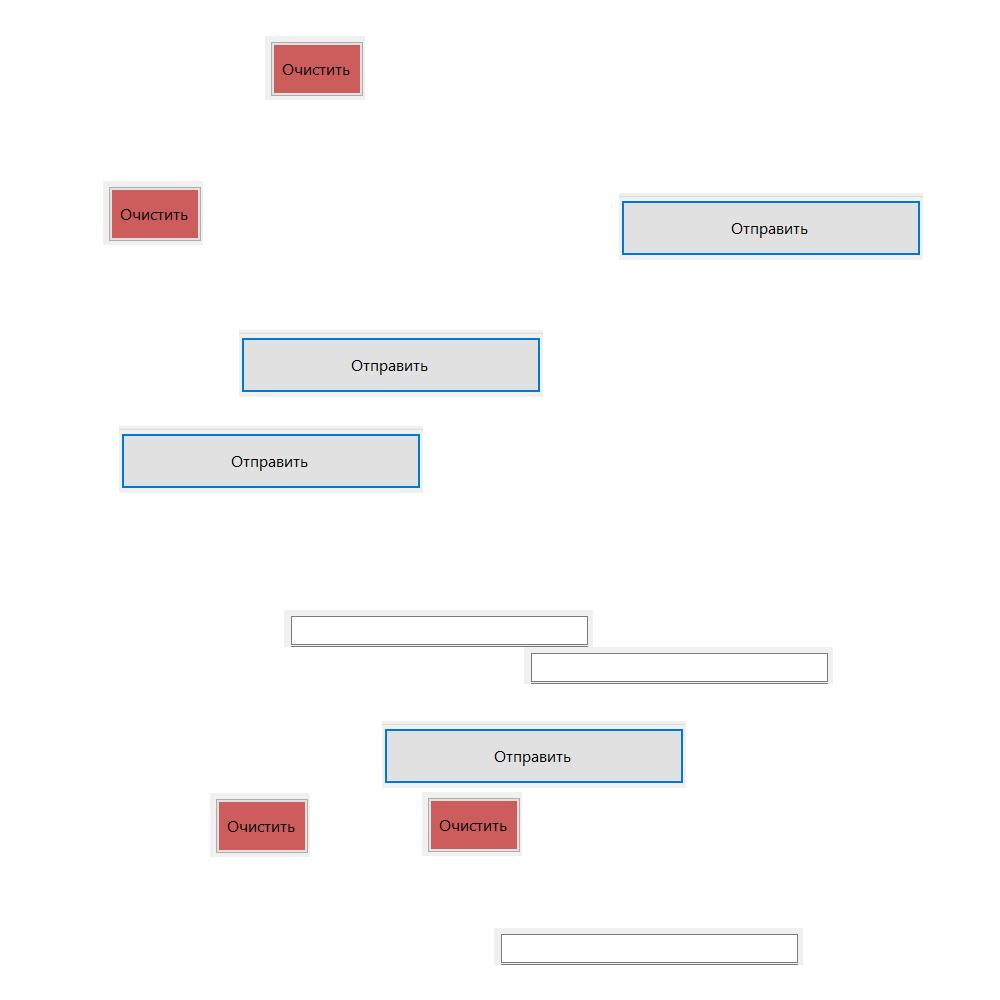Button: (382, 721, 686, 788), (239, 330, 543, 397), (619, 193, 923, 260), (119, 426, 423, 493), (265, 36, 365, 100), (103, 181, 203, 245), (422, 792, 522, 856), (210, 793, 310, 857)
EditText-: (494, 928, 803, 965), (284, 610, 593, 647), (524, 647, 833, 684)
